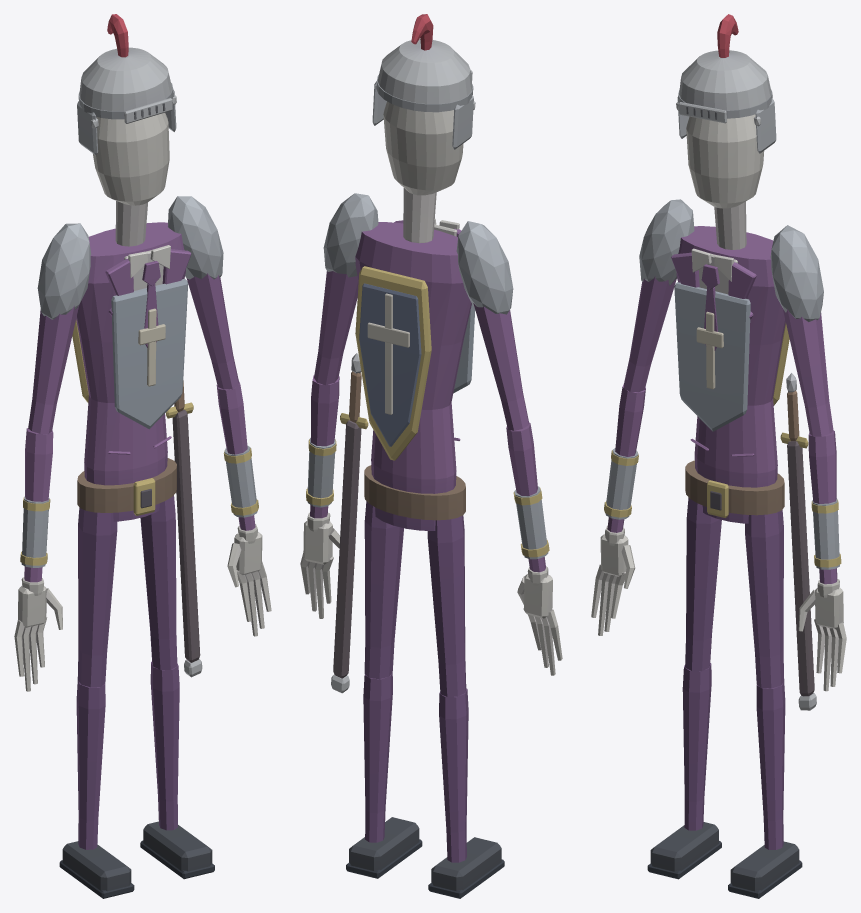
The model's file is SlendermanKnight.glb.
3 renders of one model, left to right at view 1: azimuth 30°, elevation 25°; view 2: azimuth 150°, elevation 25°; view 3: azimuth 330°, elevation 25°, orthographic. The views are drawn at different scales.
Parts seen in each view (by area): view 1: Body, ArmR, Head, LegR, ArmL, LegL; view 2: Body, ArmR, Head, LegR, ArmL, LegL; view 3: Body, ArmL, Head, LegL, ArmR, LegR.
Boxes of the visible parts, x1,y1,x2,y2 form: Body: [72, 201, 202, 677]; ArmR: [14, 223, 91, 691]; Head: [77, 14, 176, 205]; LegR: [59, 507, 134, 898]; ArmL: [168, 196, 271, 636]; LegL: [140, 495, 214, 879]; Body: [331, 188, 475, 693]; ArmR: [456, 221, 562, 675]; Head: [372, 14, 475, 195]; LegR: [427, 515, 504, 898]; ArmL: [300, 193, 378, 618]; LegL: [346, 501, 422, 878]; Body: [671, 201, 816, 710]; ArmL: [770, 225, 846, 691]; Head: [676, 14, 776, 208]; LegL: [728, 510, 802, 898]; ArmR: [591, 199, 694, 635]; LegR: [647, 497, 721, 879].
Size of the model in its own units: 2.68 by 8.63 by 1.08.
